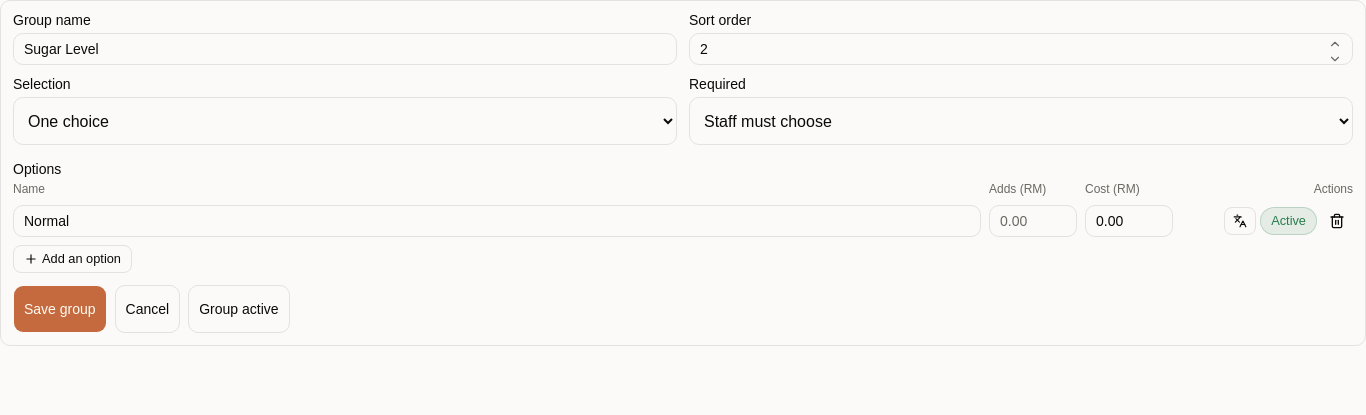
Test: what the modifier group form saves, unchanged › still refuses a sort order that is not a whole number
Replace the text in the number field with id "group-sort" with "1.5". click: (1021, 49)
box: x1=689 y1=33 x2=1353 y2=65
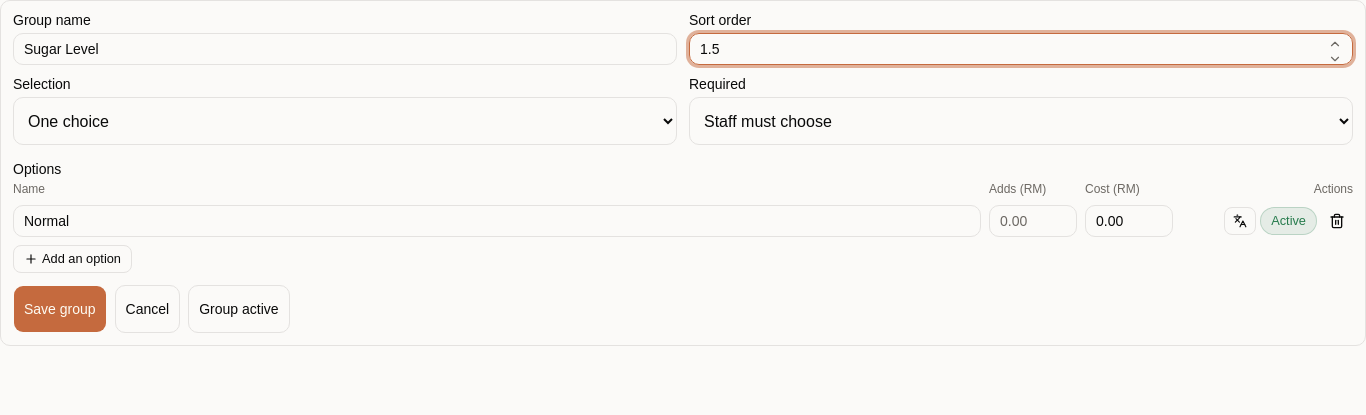
Click the button "Save group". click: (60, 309)
box: x1=13 y1=285 x2=107 y2=333
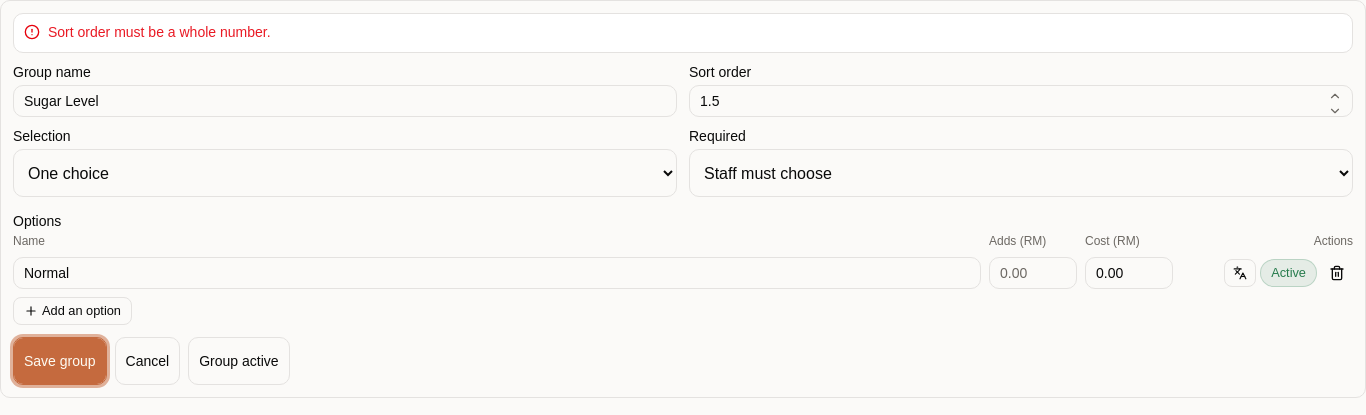
Result: the text "Sort order must be a whole number." is shown at x1=48 y1=24 x2=271 y2=40
